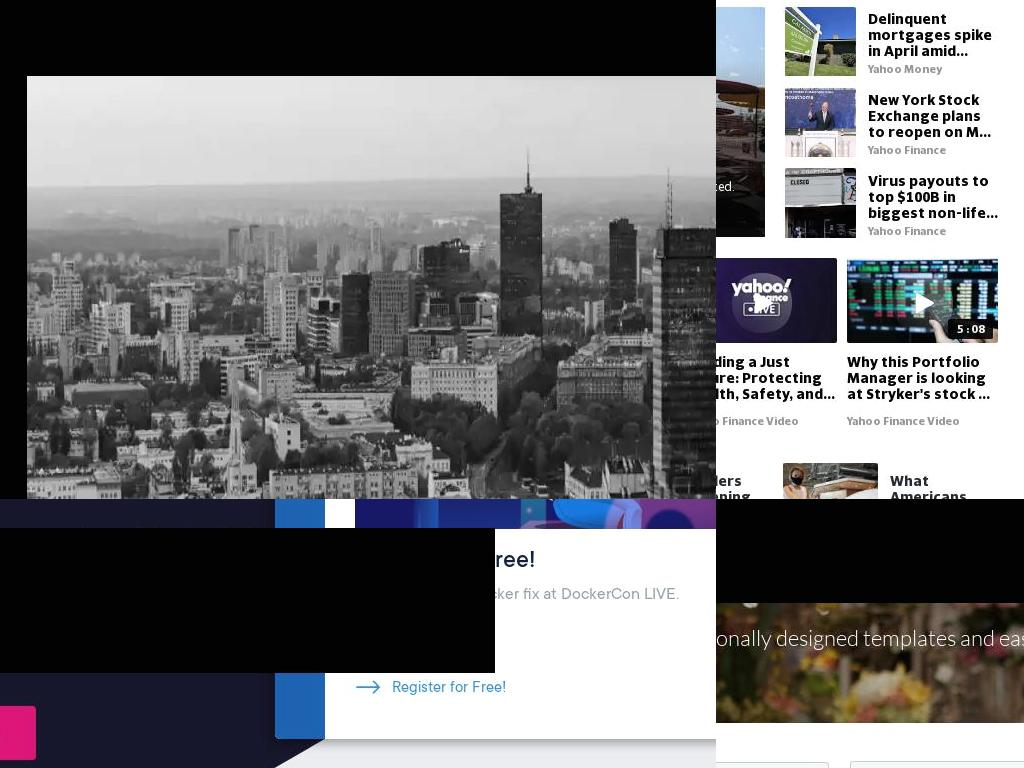button: (837, 257, 998, 441), (716, 257, 837, 441), (785, 6, 998, 77), (785, 87, 998, 157), (785, 168, 998, 238), (782, 463, 998, 499)
heading: (0, 528, 495, 673), (716, 499, 1024, 603), (355, 549, 716, 576), (716, 623, 1024, 653), (847, 353, 998, 402), (867, 10, 998, 59), (867, 91, 998, 140), (867, 172, 998, 221), (716, 353, 837, 402), (889, 473, 976, 499), (716, 473, 762, 499)
image: (847, 257, 998, 343), (716, 257, 837, 343), (785, 6, 856, 77), (785, 87, 856, 158), (785, 168, 856, 239), (731, 273, 792, 334), (892, 273, 953, 334), (782, 463, 878, 499)
link: (847, 401, 998, 427), (785, 61, 998, 76), (785, 142, 998, 157), (785, 223, 998, 238), (716, 401, 837, 427), (392, 679, 506, 697), (19, 0, 61, 8)
text: (355, 584, 716, 605), (948, 318, 993, 339)
